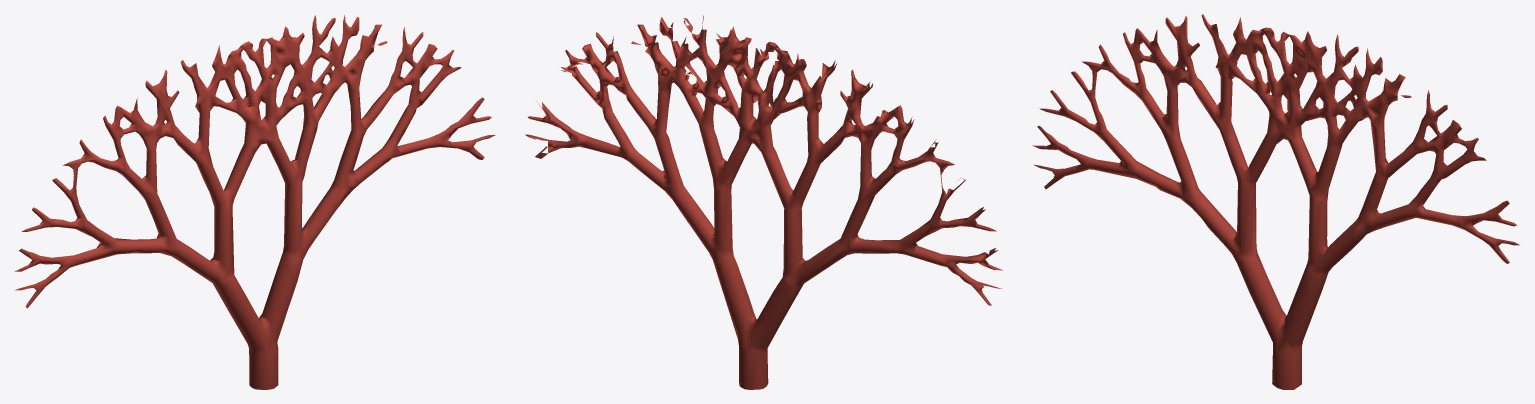
The model's file is kt_coral_fan_b.glb.
The picture shows the model from 3 angles, left to right: view 1: azimuth 30°, elevation 25°; view 2: azimuth 150°, elevation 25°; view 3: azimuth 330°, elevation 25°; orthographic projection.
Parts seen in each view (by area): view 1: kt_coral_fan_b; view 2: kt_coral_fan_b; view 3: kt_coral_fan_b.
Boxes of the visible parts, left/top/right/bottom form: kt_coral_fan_b: left=14, top=15, right=495, bottom=389; kt_coral_fan_b: left=525, top=15, right=1002, bottom=389; kt_coral_fan_b: left=1032, top=14, right=1519, bottom=389.
Size of the model in its own units: 1.13 by 0.8051 by 0.0575.
